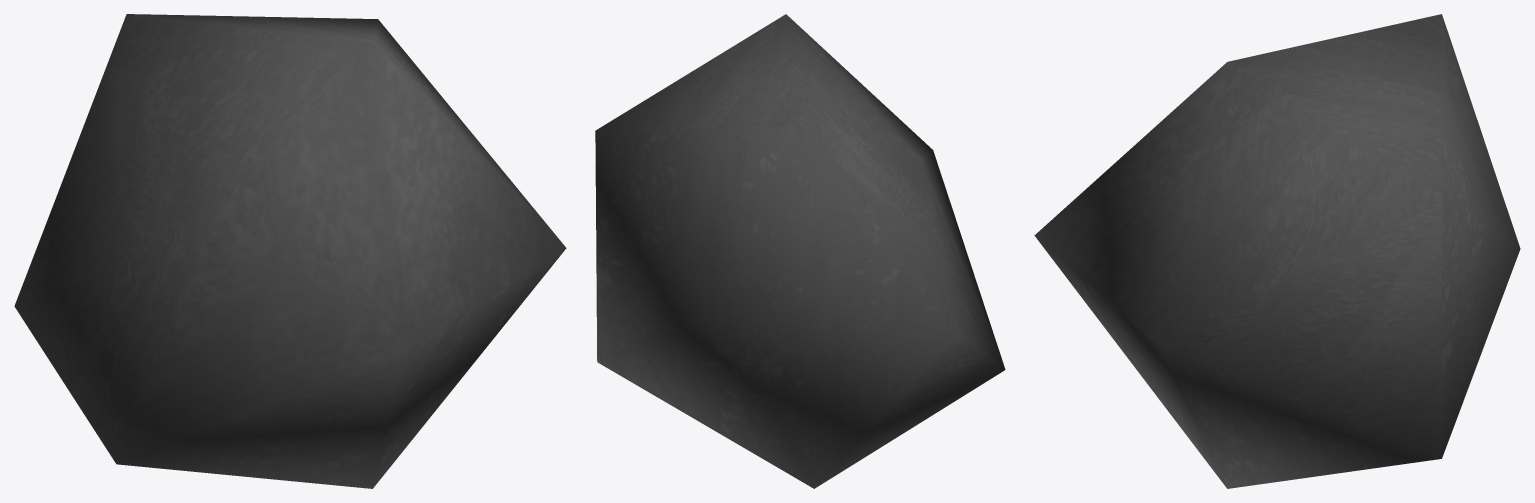
Rendered from stone.fbx.
The picture shows the model from 3 angles, left to right: view 1: azimuth 30°, elevation 25°; view 2: azimuth 150°, elevation 25°; view 3: azimuth 270°, elevation 25°; orthographic projection. The views are drawn at different scales.
Visible parts, largest first — view 1: rocket; view 2: rocket; view 3: rocket.
Boxes of the visible parts, <box> form: rocket: <box>14,14,566,488</box>; rocket: <box>595,14,1005,488</box>; rocket: <box>1034,14,1520,488</box>.
Bounding box in the file's own units: 0.2049 × 0.1987 × 0.2043.
Materials: 1 (1 with a texture image).
